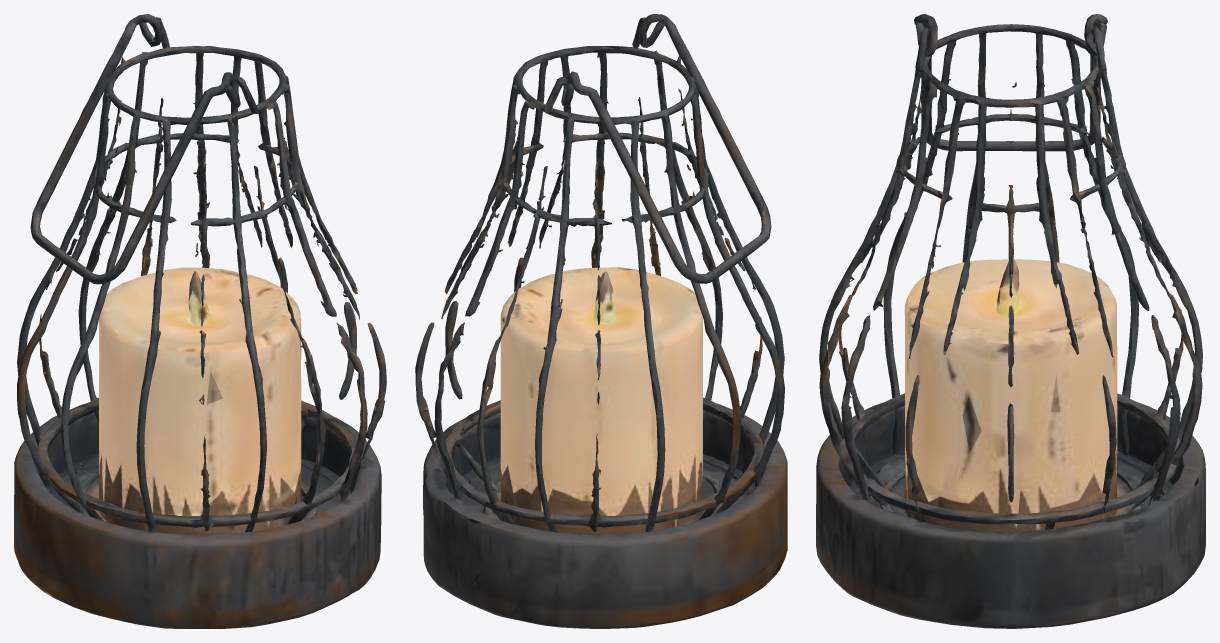
Rendered from CandleCageShort.glb.
The picture shows the model from 3 angles, left to right: view 1: azimuth 30°, elevation 25°; view 2: azimuth 150°, elevation 25°; view 3: azimuth 270°, elevation 25°; orthographic projection. The views are drawn at different scales.
Parts seen in each view (by area): view 1: CandleCageShort; view 2: CandleCageShort; view 3: CandleCageShort.
Part boxes in pixels (bbox=[...]): CandleCageShort: bbox=[14, 14, 386, 628]; CandleCageShort: bbox=[415, 14, 787, 628]; CandleCageShort: bbox=[816, 14, 1205, 628].
Size of the model in its own units: 0.2959 by 0.4561 by 0.3032.
Materials: 2 (2 with a texture image).
